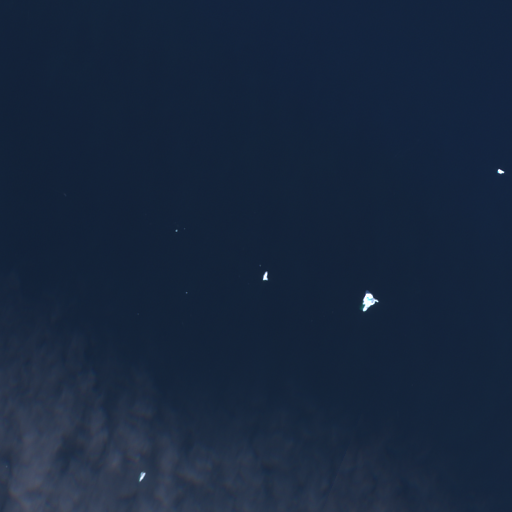Iceberg: (362, 292, 377, 311), (139, 472, 146, 481), (263, 271, 267, 280), (497, 169, 504, 173), (175, 229, 177, 231), (185, 292, 187, 293), (184, 228, 185, 229), (259, 265, 260, 266)
